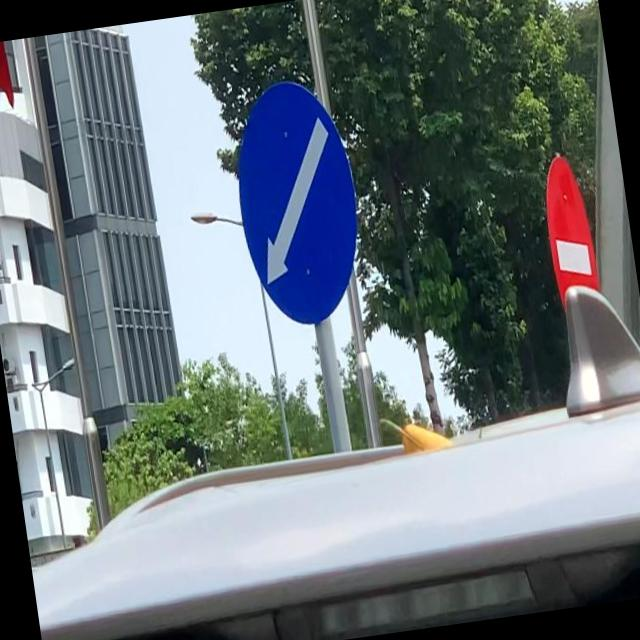P-102: (540, 156, 604, 318)
R-302b: (224, 76, 370, 332)
